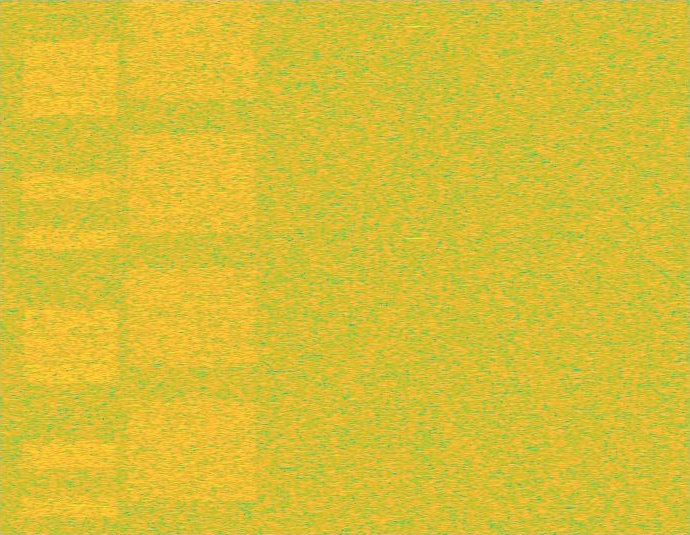5G: (123, 0, 261, 534)
LTE: (19, 0, 122, 534)
Radar: (410, 0, 424, 534)
